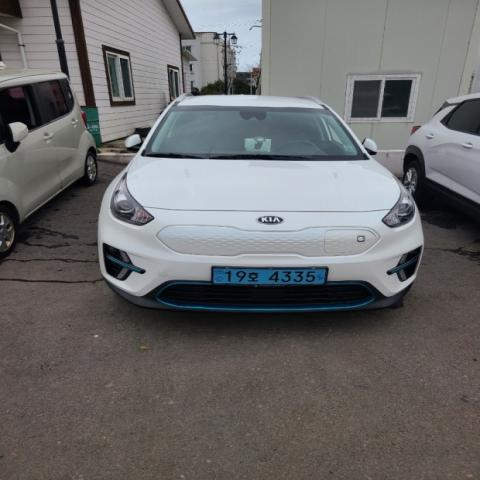LP: (207, 258, 330, 295)
